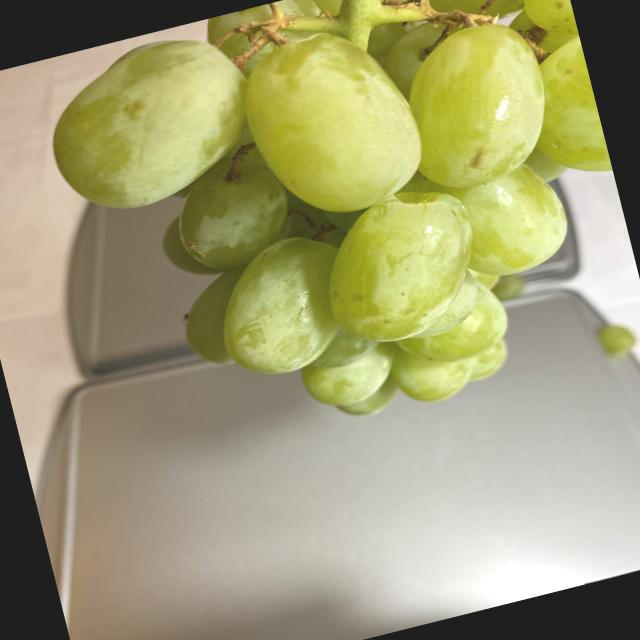grapes: (26, 0, 640, 483)
